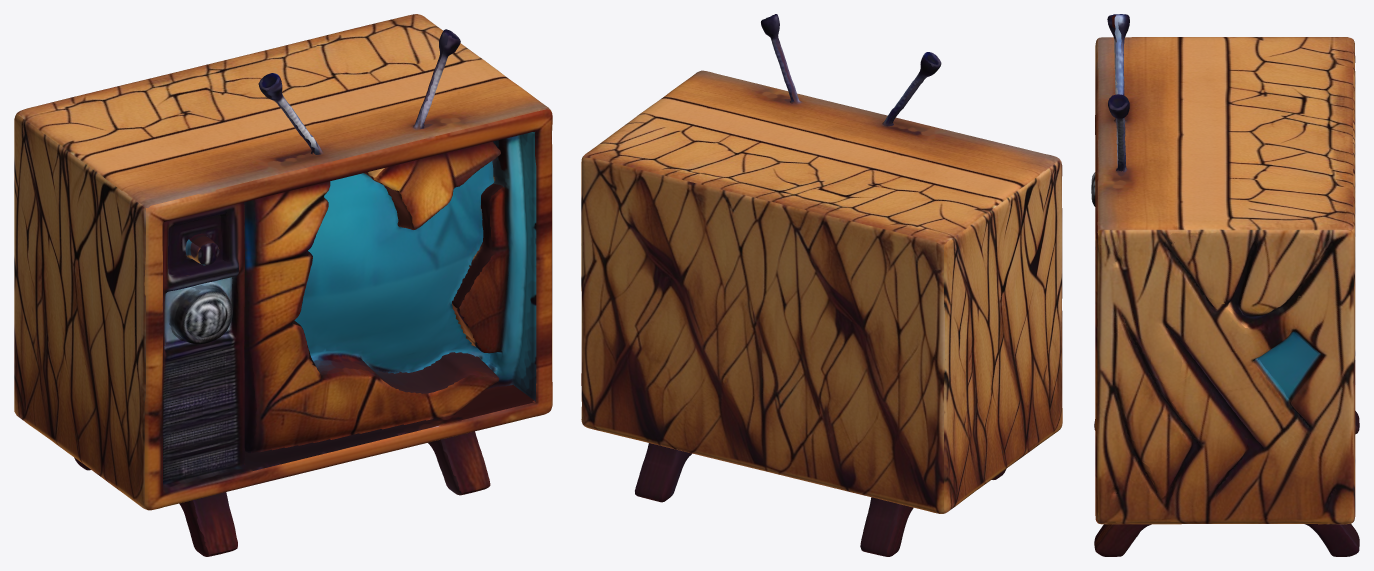
Rendered from tv_vieja.glb.
3 views of the same model, side by side, from view 1: azimuth 30°, elevation 25°; view 2: azimuth 150°, elevation 25°; view 3: azimuth 270°, elevation 25° (orthographic). The views are drawn at different scales.
Visible parts, largest first — view 1: tmpczlhert4.ply; view 2: tmpczlhert4.ply; view 3: tmpczlhert4.ply.
Boxes of the visible parts, box(x1,y1,x2,y2) form: tmpczlhert4.ply: box(14, 14, 552, 556); tmpczlhert4.ply: box(581, 14, 1062, 556); tmpczlhert4.ply: box(1091, 14, 1359, 556).
Size of the model in its own units: 0.9257 by 0.9918 by 0.5377.
Materials: 1 (1 with a texture image).
